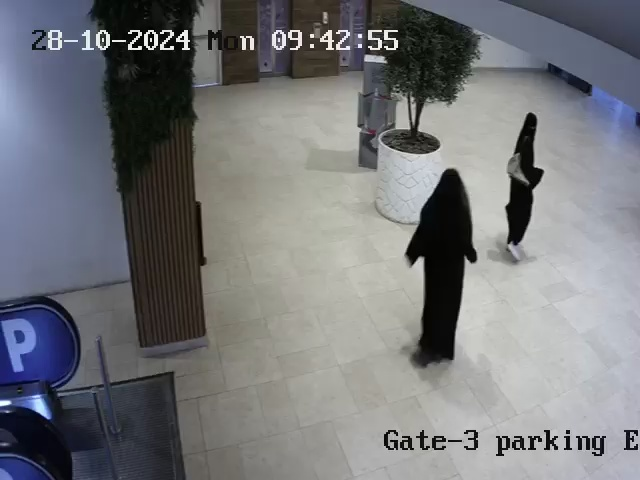female: (403, 163, 484, 374), (505, 112, 544, 264)
